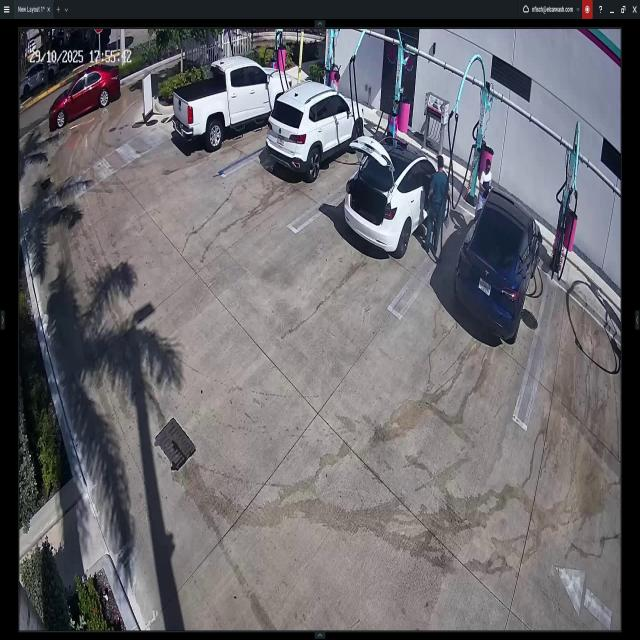Car: (451, 187, 542, 345), (342, 136, 449, 258), (164, 51, 290, 146), (270, 77, 362, 182), (47, 67, 122, 124)
